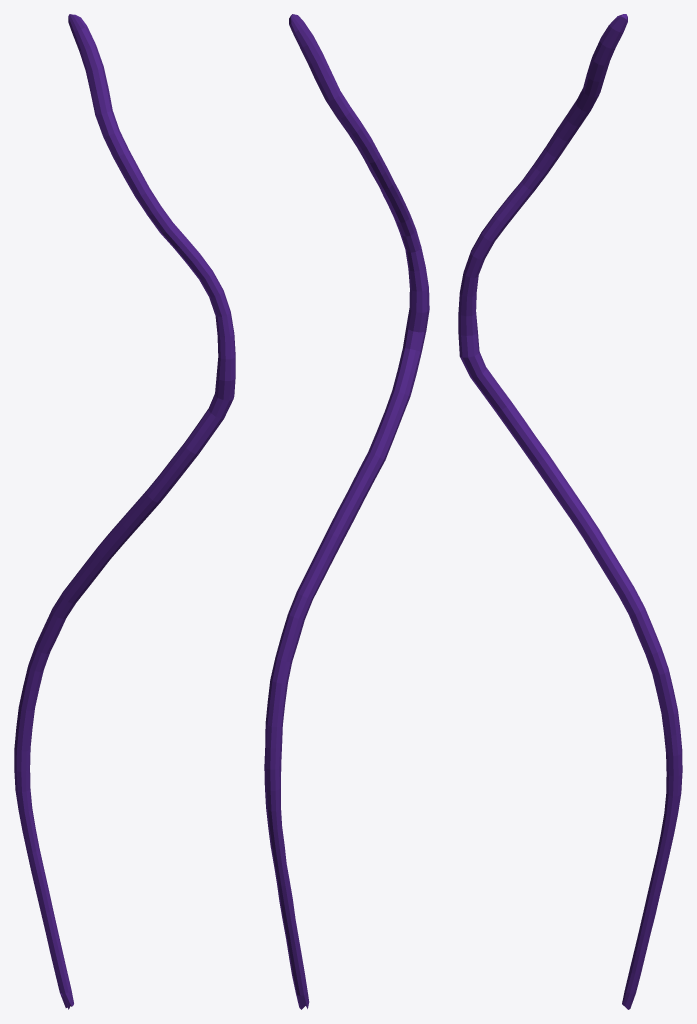
File: Vagus_nerve_R.glb
3 views of the same model, side by side, from view 1: azimuth 90°, elevation 25°; view 2: azimuth 150°, elevation 25°; view 3: azimuth 270°, elevation 25° (orthographic).
Visible parts, largest first — view 1: Vagus_nerve_R.001; view 2: Vagus_nerve_R.001; view 3: Vagus_nerve_R.001.
Part boxes in pixels (left/top/right/bottom): Vagus_nerve_R.001: left=14, top=14, right=235, bottom=1009; Vagus_nerve_R.001: left=264, top=14, right=429, bottom=1009; Vagus_nerve_R.001: left=458, top=14, right=682, bottom=1009.
Bounding box in the file's own units: 0.0239 × 0.3723 × 0.0756.
Materials: 1 (1 with a texture image).
